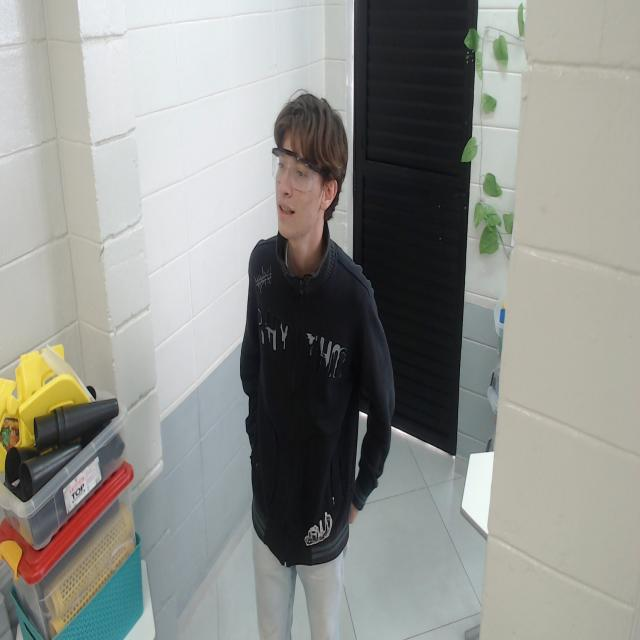oculos-epi: (271, 147, 335, 193)
